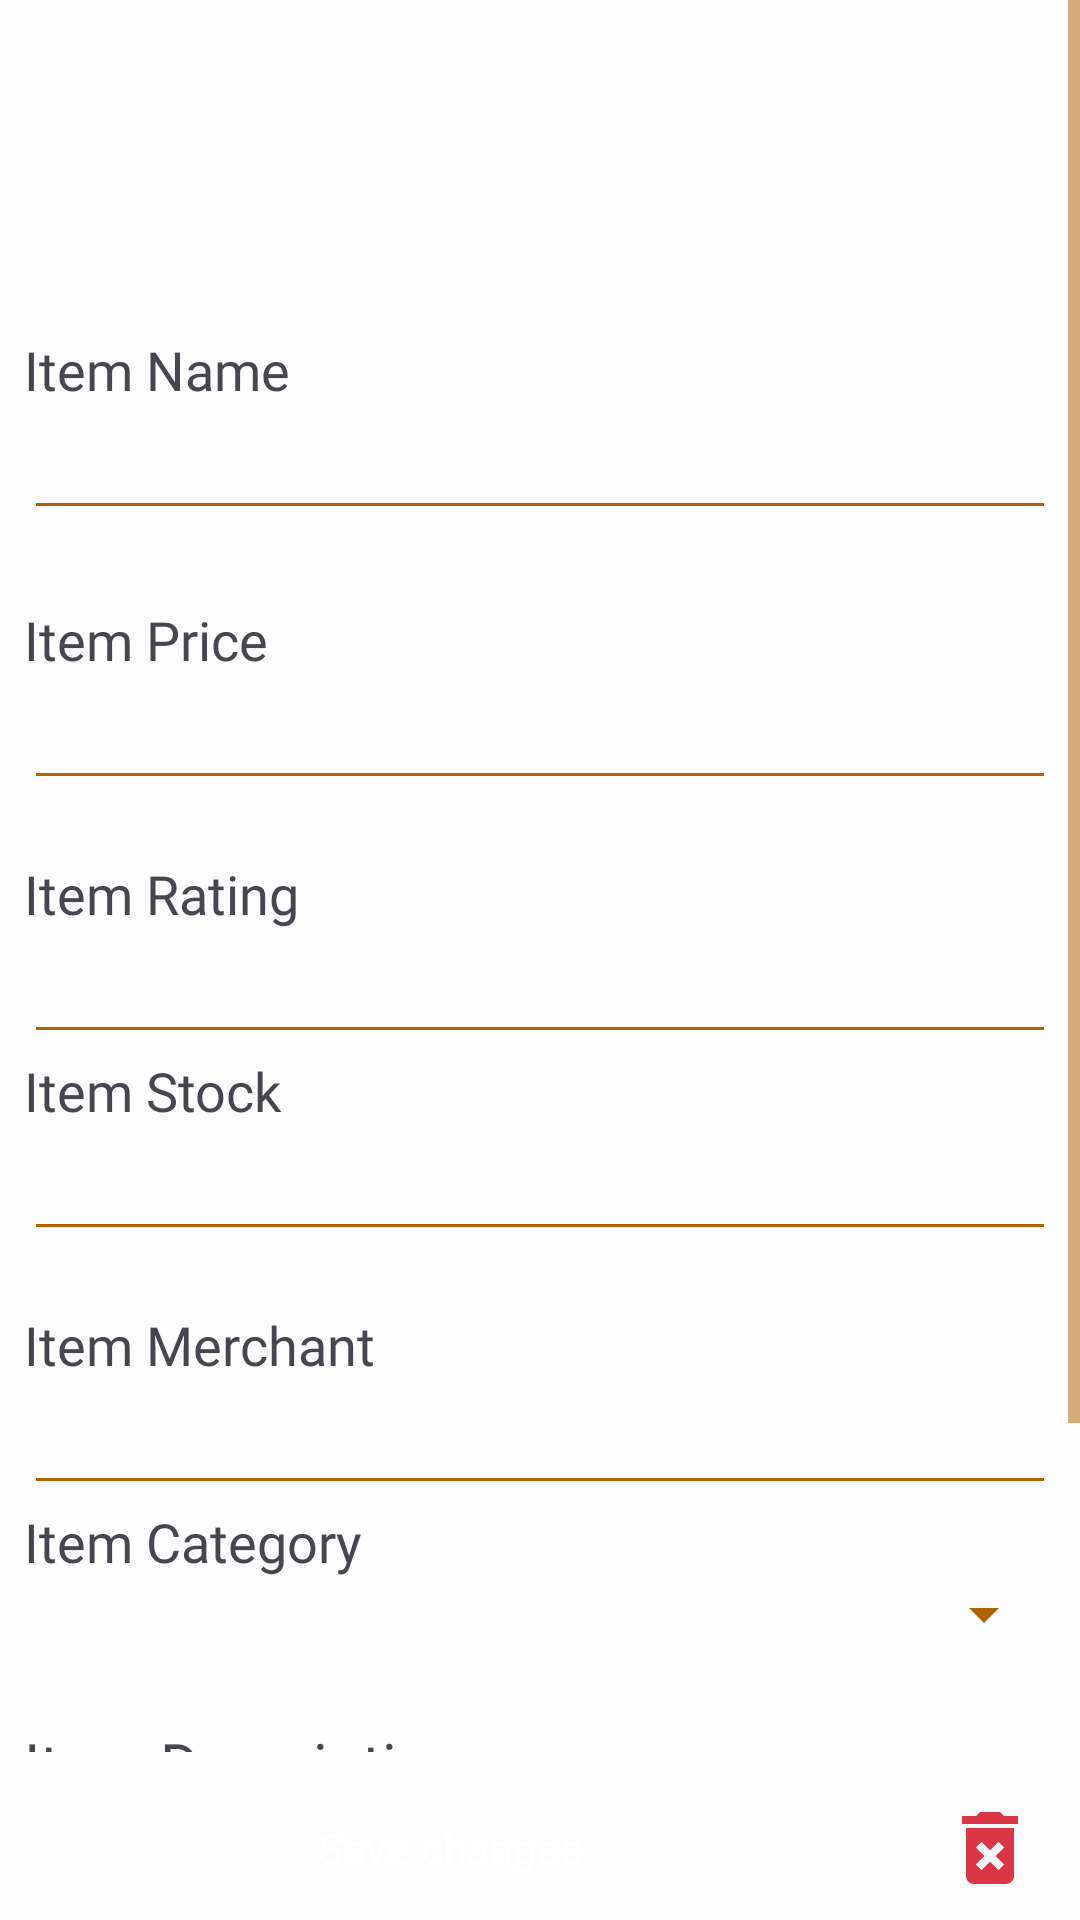

Named icons in this screenshot (1080×1920) and their centers, (x=x, y=y):
delete forever: (x=990, y=1848)
